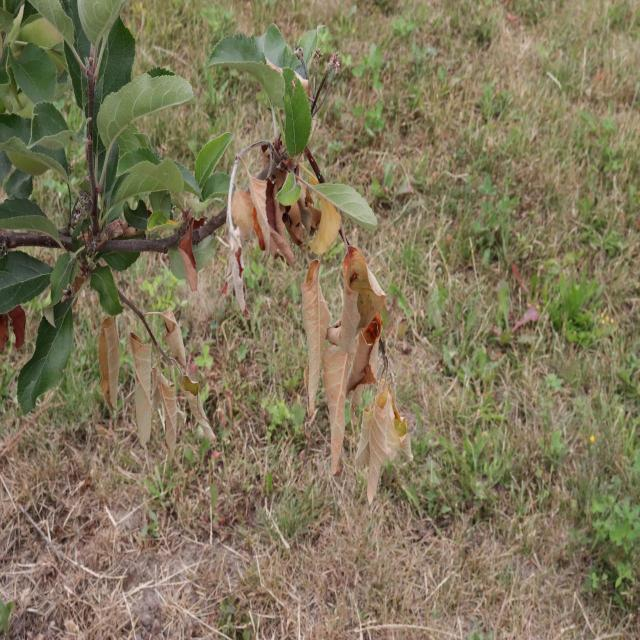-FireBlight-: (252, 178, 304, 272), (318, 315, 348, 471), (328, 248, 370, 358), (358, 385, 402, 479), (222, 188, 252, 310), (300, 248, 320, 431), (124, 319, 152, 444), (94, 311, 122, 414), (148, 354, 176, 456), (302, 194, 338, 252), (160, 276, 184, 361), (178, 377, 210, 440), (356, 320, 376, 396), (0, 315, 35, 346), (183, 216, 196, 292)
